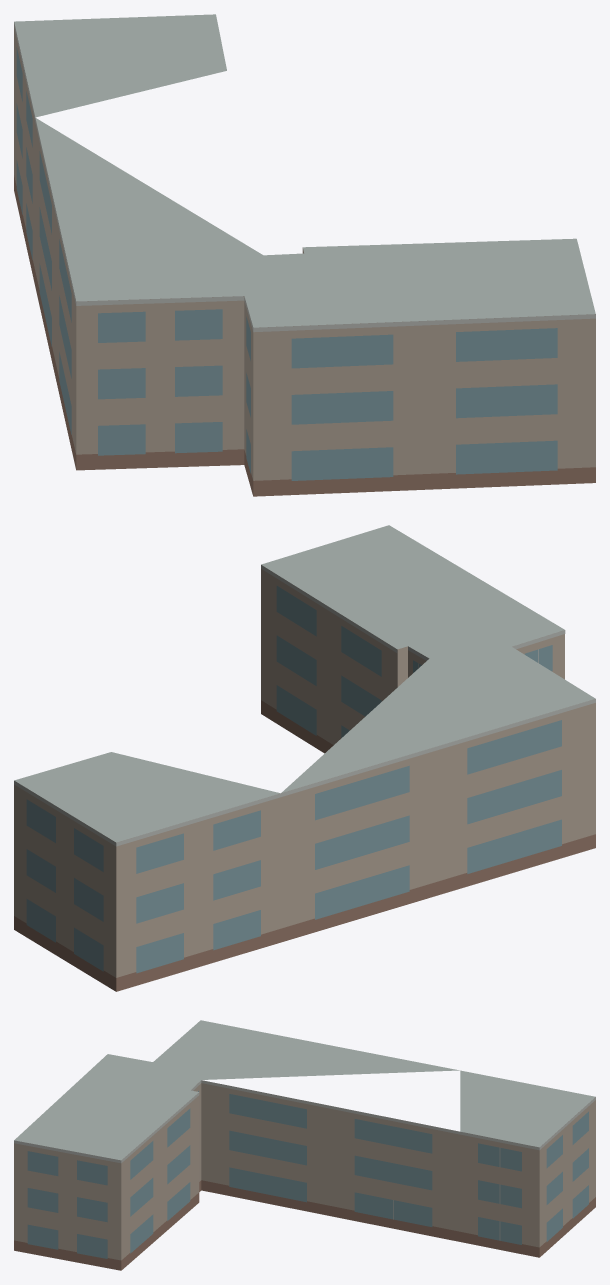
File: survey-upis-32828385.glb
3 views of the same model, one above another, from view 1: azimuth 30°, elevation 25°; view 2: azimuth 150°, elevation 25°; view 3: azimuth 270°, elevation 25° (orthographic). The views are drawn at different scales.
Parts seen in each view (by area): view 1: survey-upis-32828385.tmp; view 2: survey-upis-32828385.tmp; view 3: survey-upis-32828385.tmp.
Part boxes in pixels (x1,y1,x2,y2): survey-upis-32828385.tmp: (14, 14, 595, 496); survey-upis-32828385.tmp: (14, 525, 595, 991); survey-upis-32828385.tmp: (14, 1020, 595, 1270).
Size of the model in its own units: 24.94 by 9.15 by 43.74.
